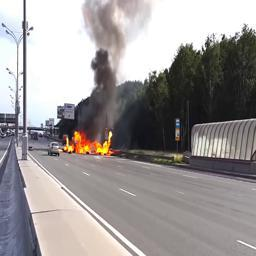fire: (64, 130, 113, 155)
